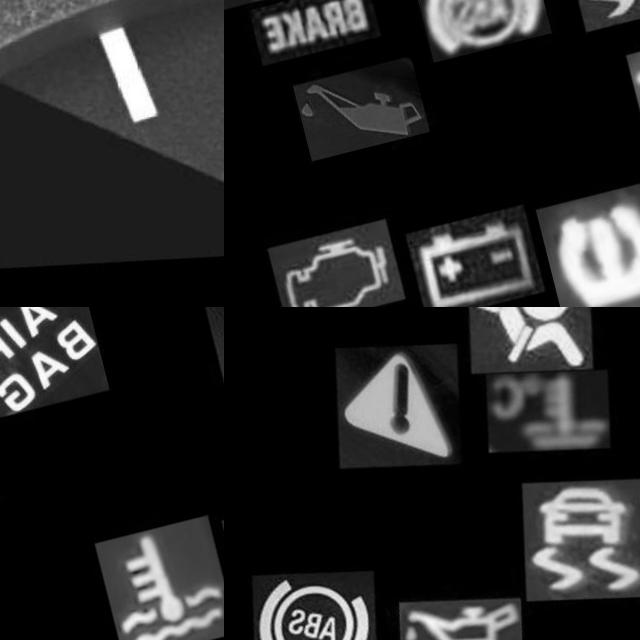Central Warning lamp: (304, 333, 472, 499), (182, 307, 224, 414)
Engine cooling system: (461, 366, 612, 491), (68, 536, 205, 640)
